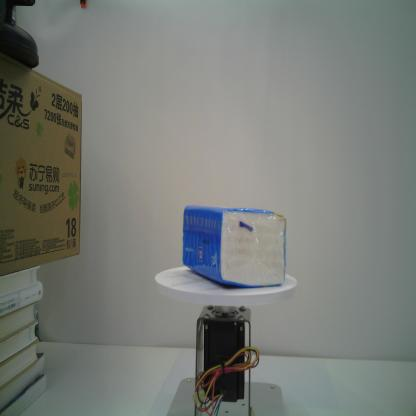Tissue: (182, 204, 288, 290)
